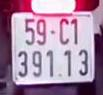1: (44, 47, 56, 81), (61, 47, 72, 80), (71, 17, 80, 45)
3: (15, 49, 29, 78), (77, 47, 91, 76)
5: (24, 15, 36, 46)
9: (37, 18, 47, 46), (31, 48, 41, 75)
C: (58, 15, 70, 46)
